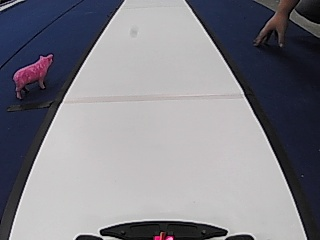pig: (10, 52, 55, 100)
